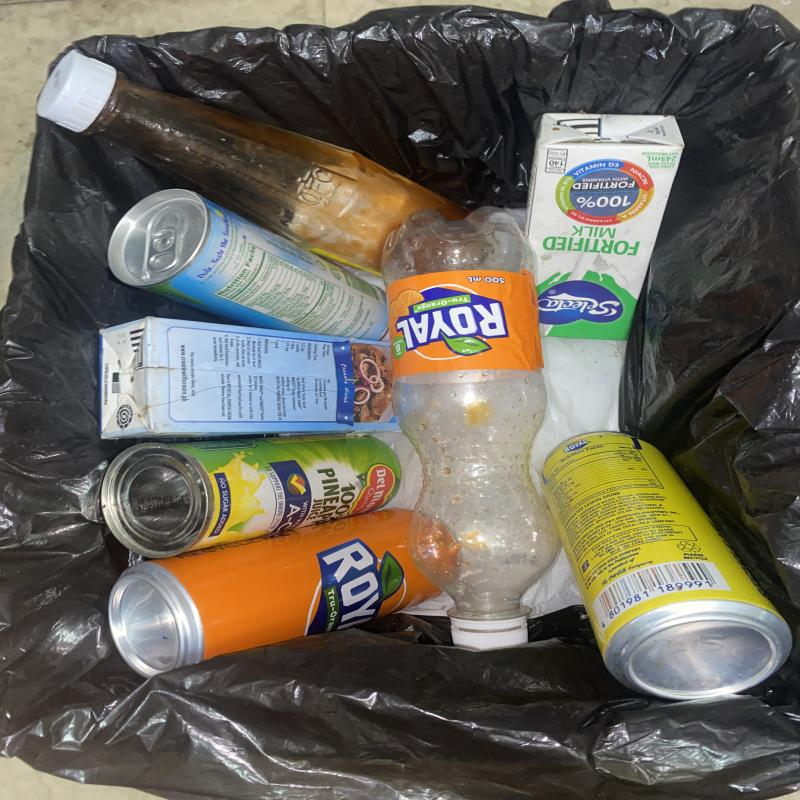aluminum: (540, 431, 794, 704), (107, 511, 460, 678), (106, 189, 389, 345), (100, 434, 402, 560)
glass bottle: (36, 50, 471, 276)
plastic bottle: (383, 209, 559, 654)
uht carton: (99, 316, 401, 440), (525, 113, 686, 342)
